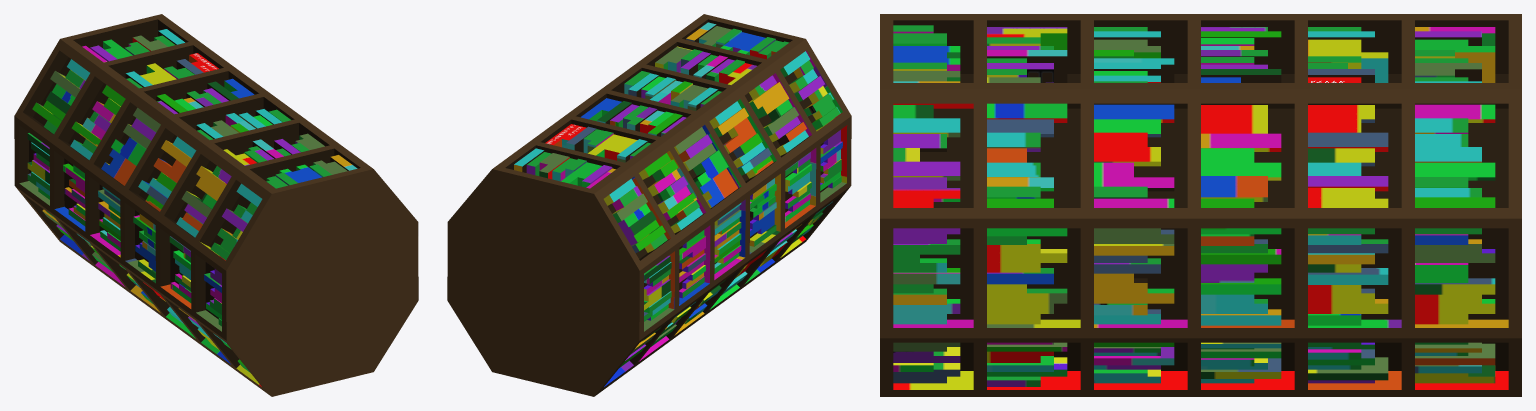
Rendered from pole.fbx.
3 renders of one model, left to right at view 1: azimuth 30°, elevation 25°; view 2: azimuth 150°, elevation 25°; view 3: azimuth 270°, elevation 25°, orthographic. The views are drawn at different scales.
Parts seen in each view (by area): view 1: pole; view 2: pole; view 3: pole.
Part boxes in pixels (x1,y1,x2,y2): pole: [14, 14, 418, 396]; pole: [447, 14, 851, 396]; pole: [880, 14, 1521, 396].
Bounding box in the file's own units: 8.91 × 8.98 × 16.99.
